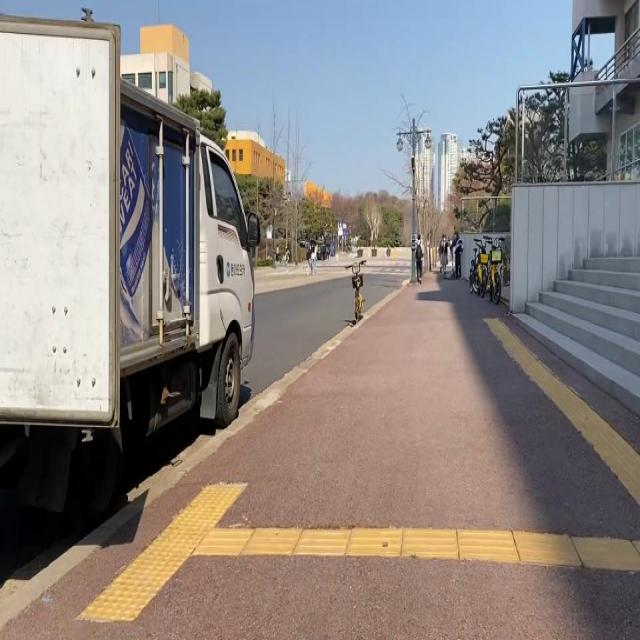sidewalk: (4, 273, 640, 639)
